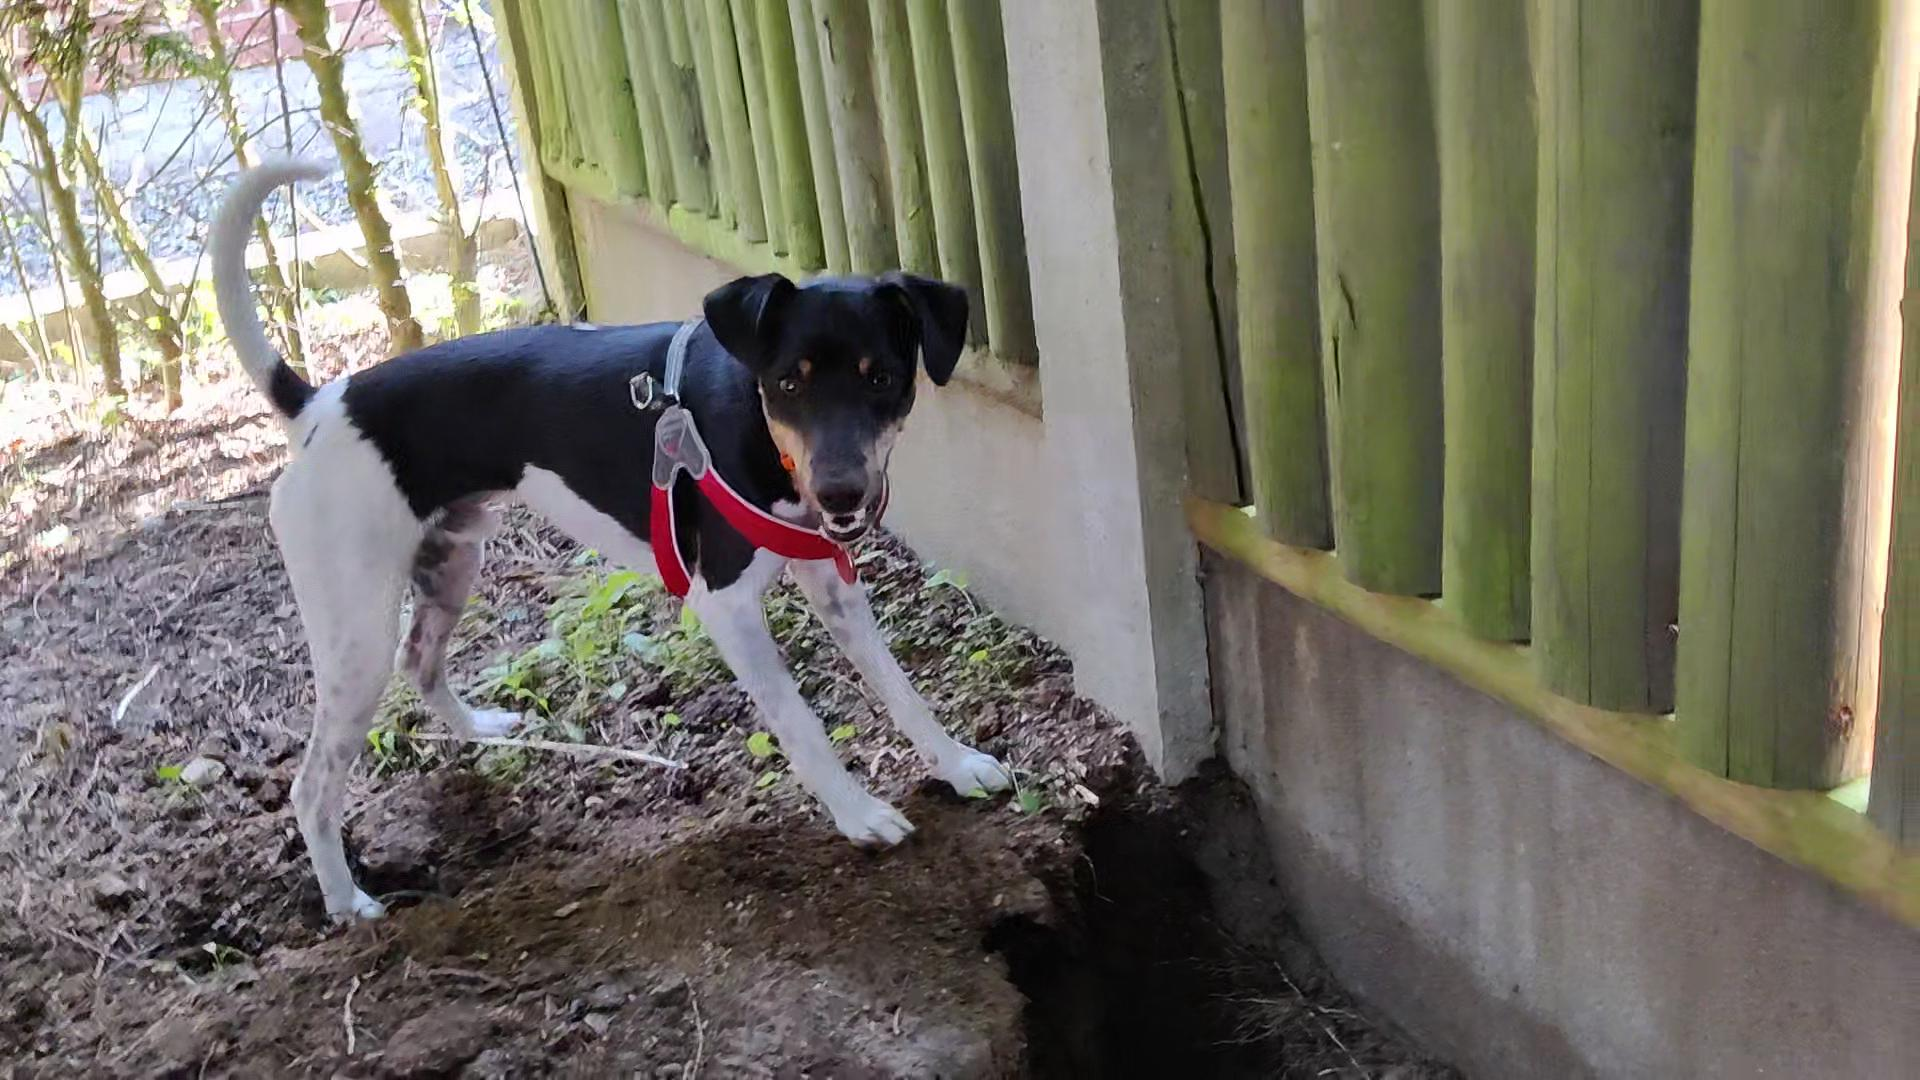Dog: (196, 127, 1056, 938)
